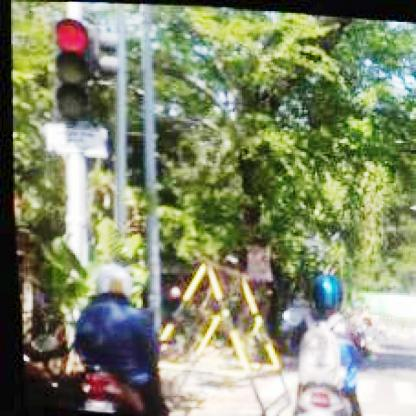Traffic Light -Red-: (45, 18, 93, 125)
